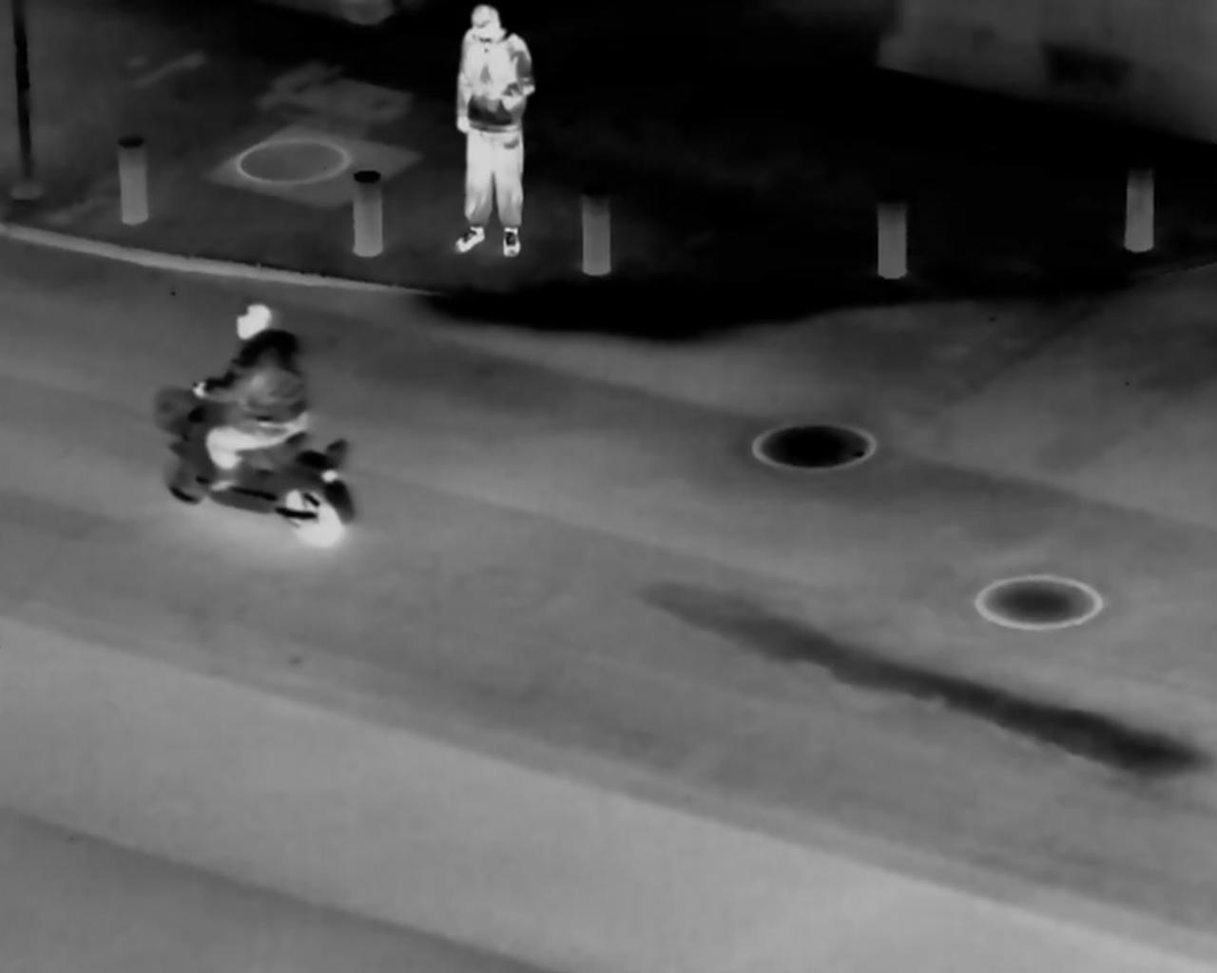person: (451, 7, 533, 257), (203, 296, 307, 476)
